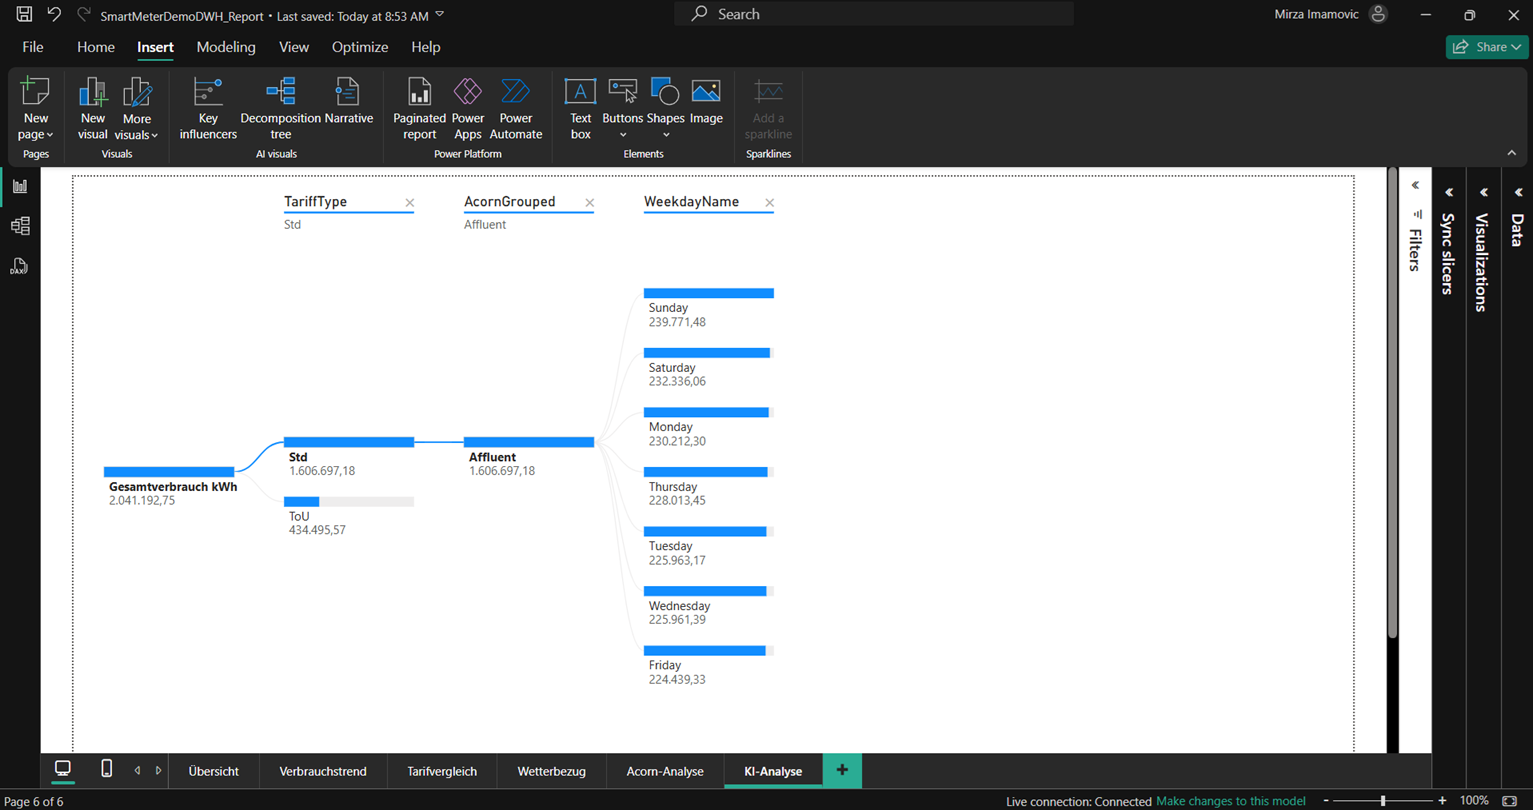

The dashboard page shown, as its layout file describes it:
{"tool":"powerbi","page":{"name":"KI-Analyse","canvas":[1280,720],"ordinal":5},"visuals":[{"type":"decompositionTreeVisual","fields":{"Analyze":["Fact_Consumption.Gesamtverbrauch kWh"],"ExplainBy":["Dim_Tariff.TariffType","Dim_Household.AcornGrouped","Dim_Date.WeekdayName"]},"box":[0,0,786.2,568.8],"z":0},{"type":"textbox","box":[20,542.5,887.5,177.5],"z":1}]}

Visuals, with their boxes on the page's 1280x720 design canvas (x1, y1, x2, y2). These are canvas units, not pixel positions in the 1533x810 screenshot, which may show the page scaled, cropped or inside an application window:
decompositionTreeVisual - Fact_Consumption.Gesamtverbrauch kWh x Dim_Tariff.TariffType: locate(0, 0, 786, 569)
textbox: locate(20, 542, 908, 720)
